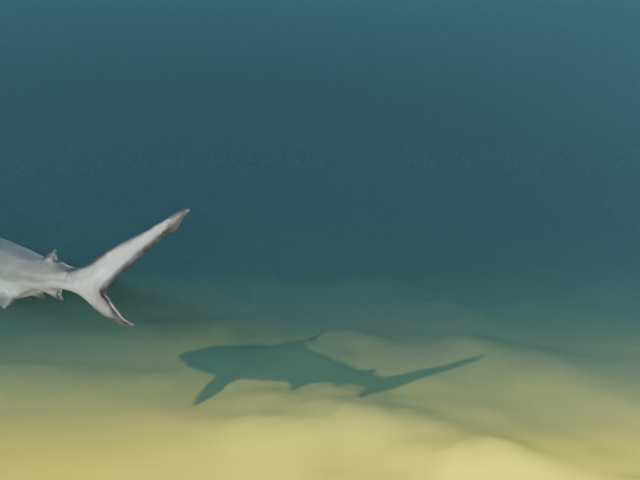Carribean Shark.001: (0, 183, 189, 329)
